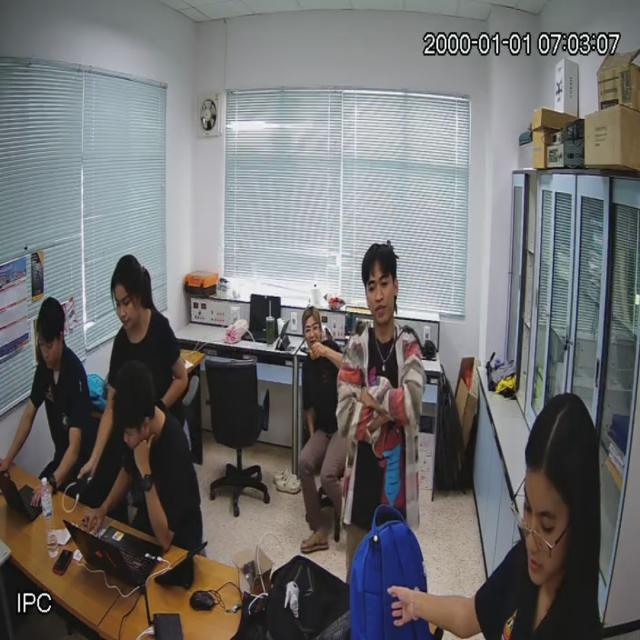normal: (341, 235, 429, 569), (108, 250, 200, 554), (29, 282, 97, 522)
